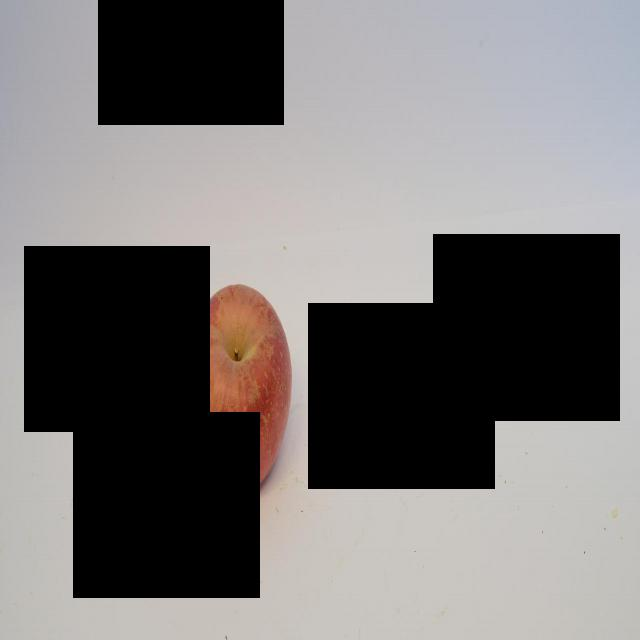apple: (178, 282, 293, 499)
